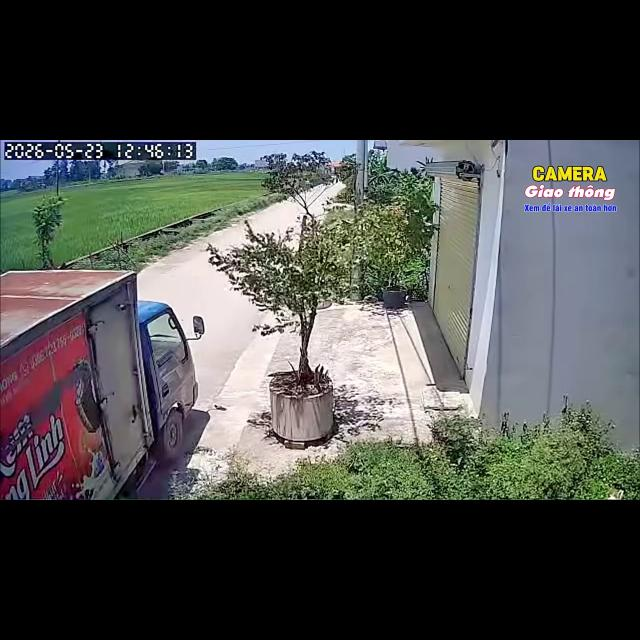truck: (0, 270, 197, 499)
